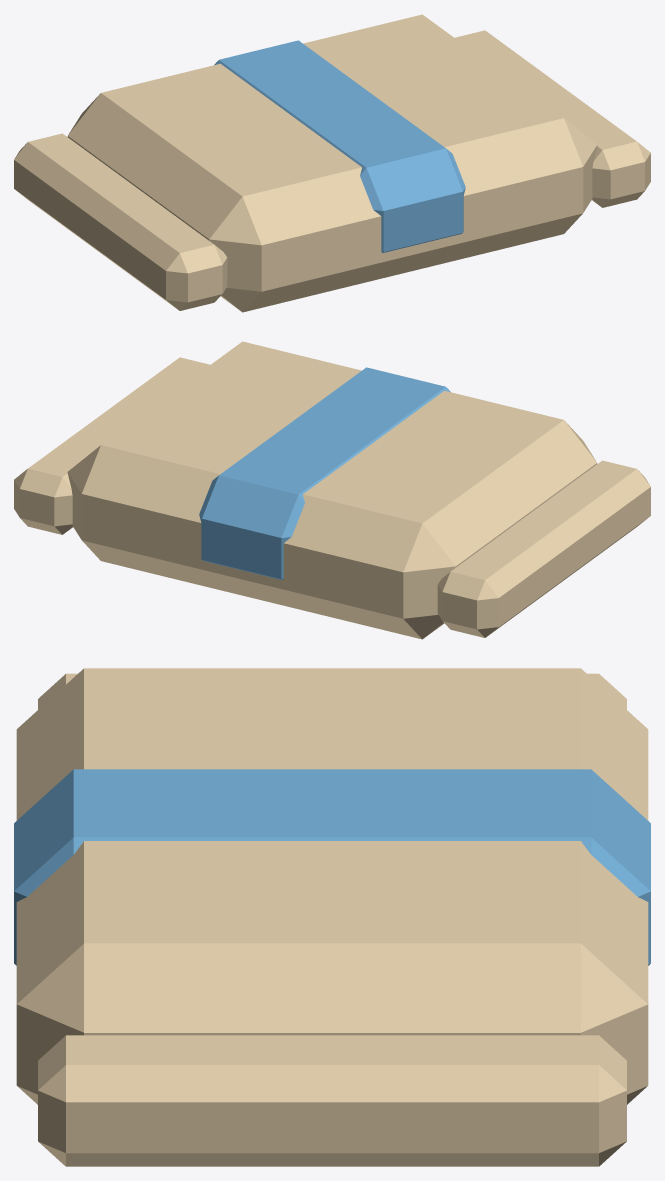
File: saco_medio.glb
3 views of the same model, one above another, from view 1: azimuth 30°, elevation 25°; view 2: azimuth 150°, elevation 25°; view 3: azimuth 270°, elevation 25° (orthographic). The views are drawn at different scales.
Parts seen in each view (by area): view 1: corpo; view 2: corpo; view 3: corpo.
Boxes of the visible parts, x1,y1,x2,y2 form: corpo: (14,14,650,312); corpo: (14,341,650,639); corpo: (14,668,650,1166).
Size of the model in its own units: 0.7 by 0.162 by 0.454.
